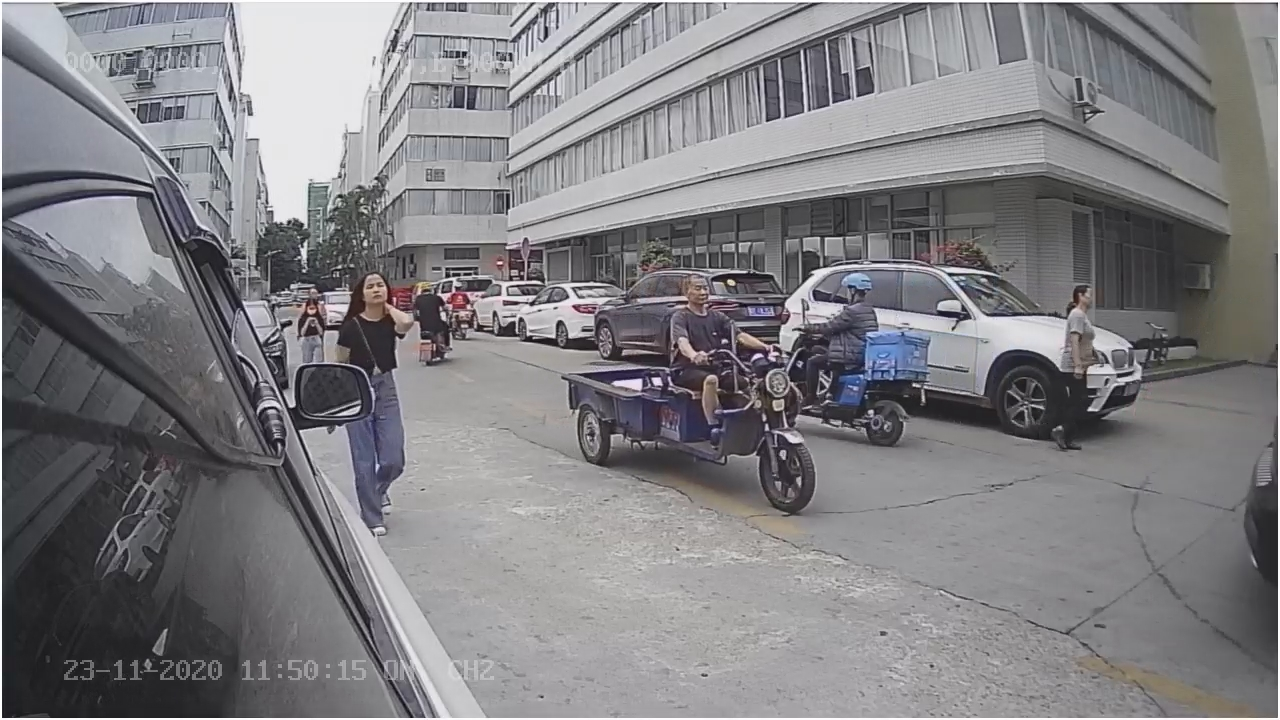person: (330, 266, 417, 355), (1053, 282, 1097, 449)
